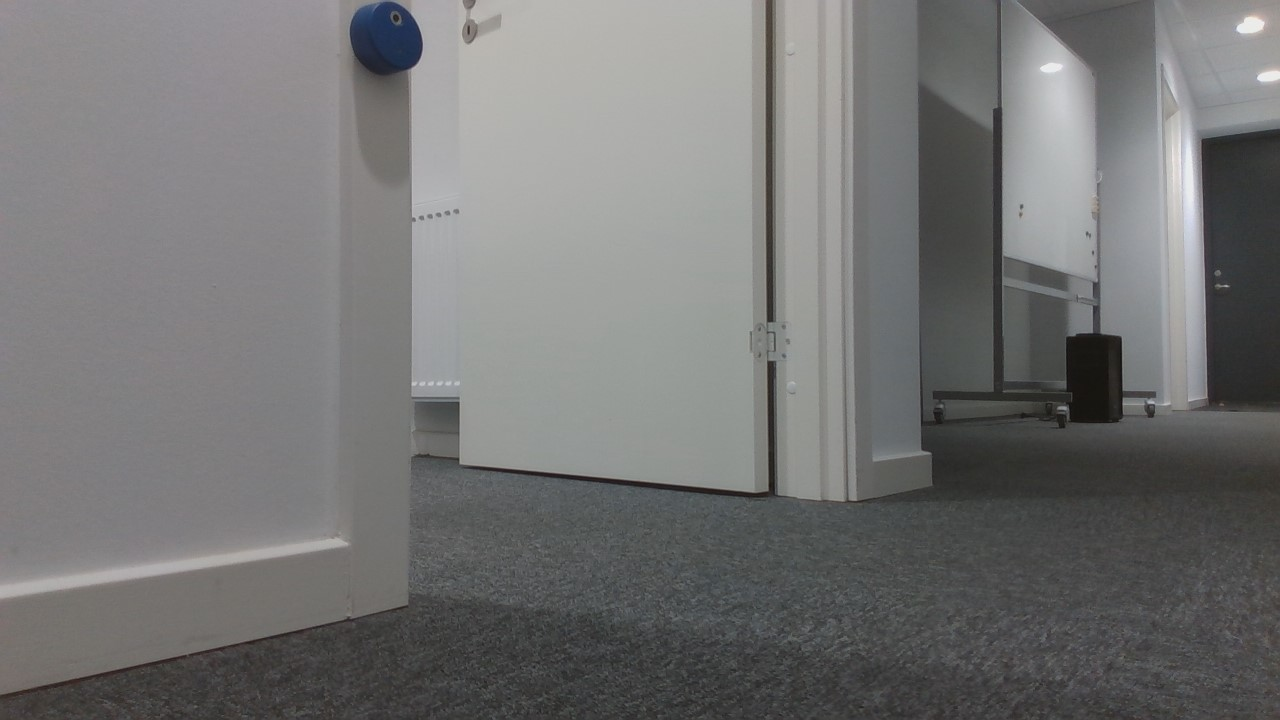alfa: (346, 2, 424, 75)
